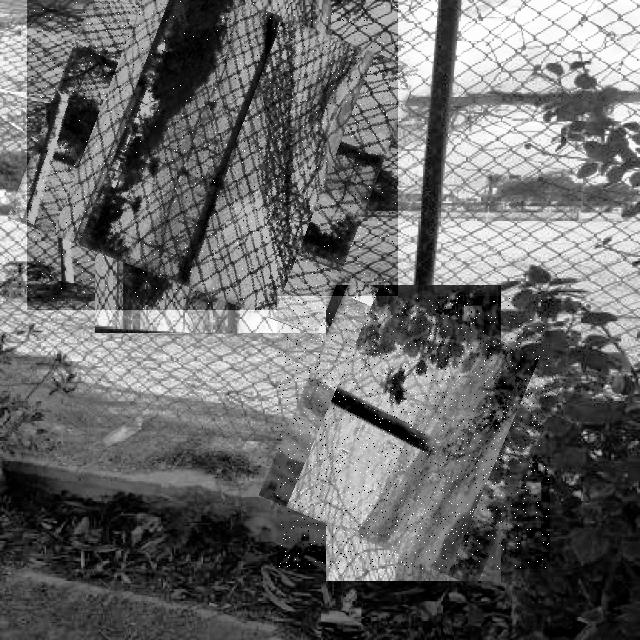anomaly-fence: (27, 0, 398, 310), (277, 296, 550, 569)
